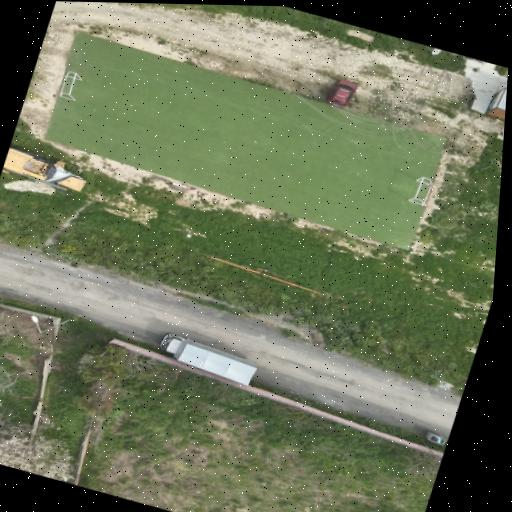car: (327, 80, 356, 107)
truck: (160, 334, 255, 384), (2, 148, 84, 191)
